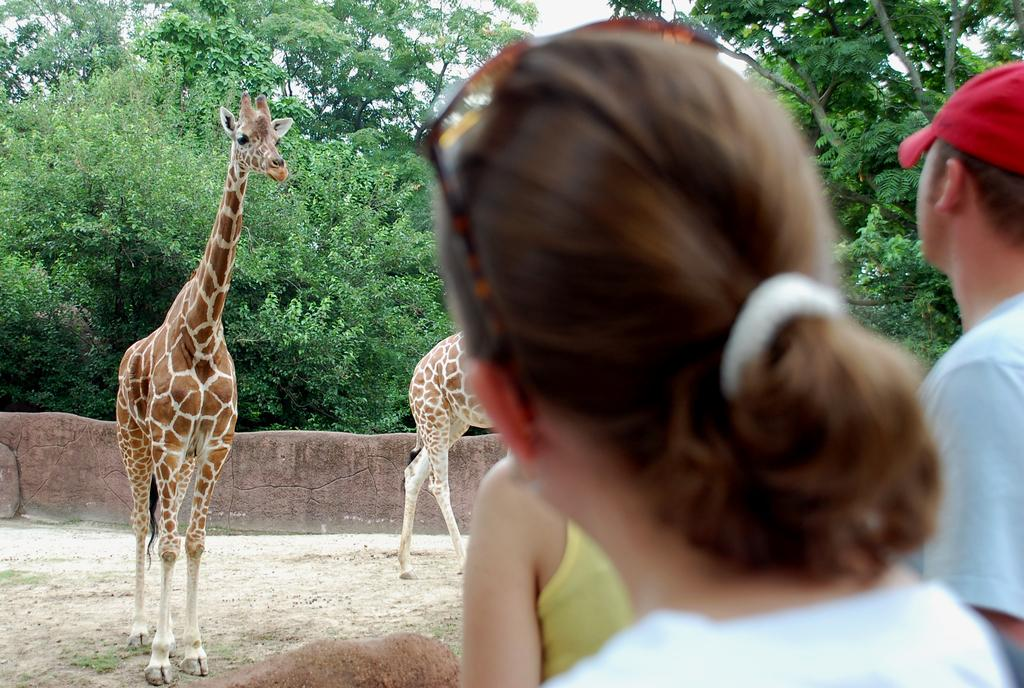Hat: (899, 58, 1023, 173)
